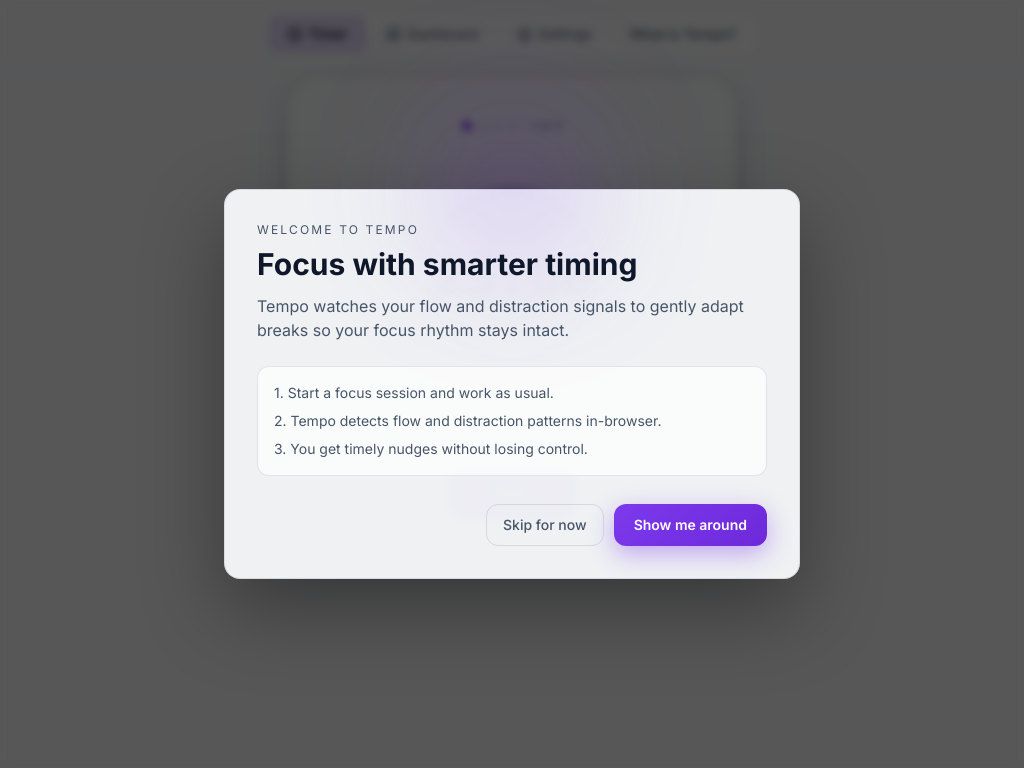
Test: onboarding flow › skip closes welcome and sends hasSeenWelcome=true
Click the button "Skip for now". click: [545, 525]
box: [486,504,604,546]
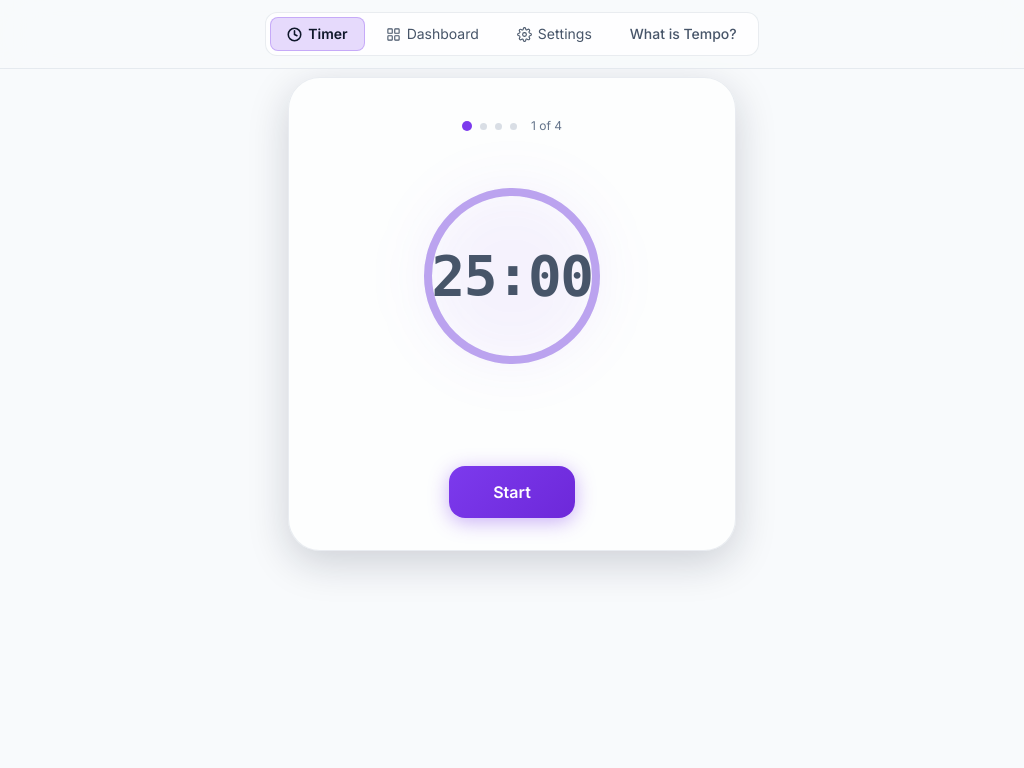
Expected: the button "Show me around" is gone
